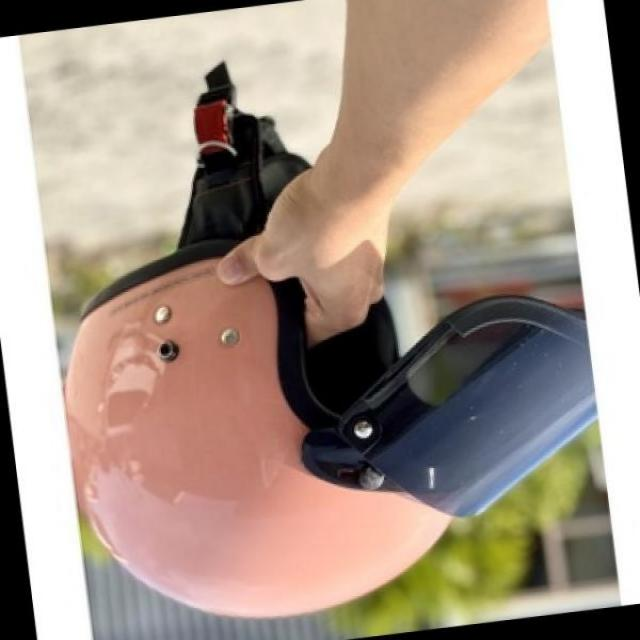Helmet: (58, 146, 607, 595)
